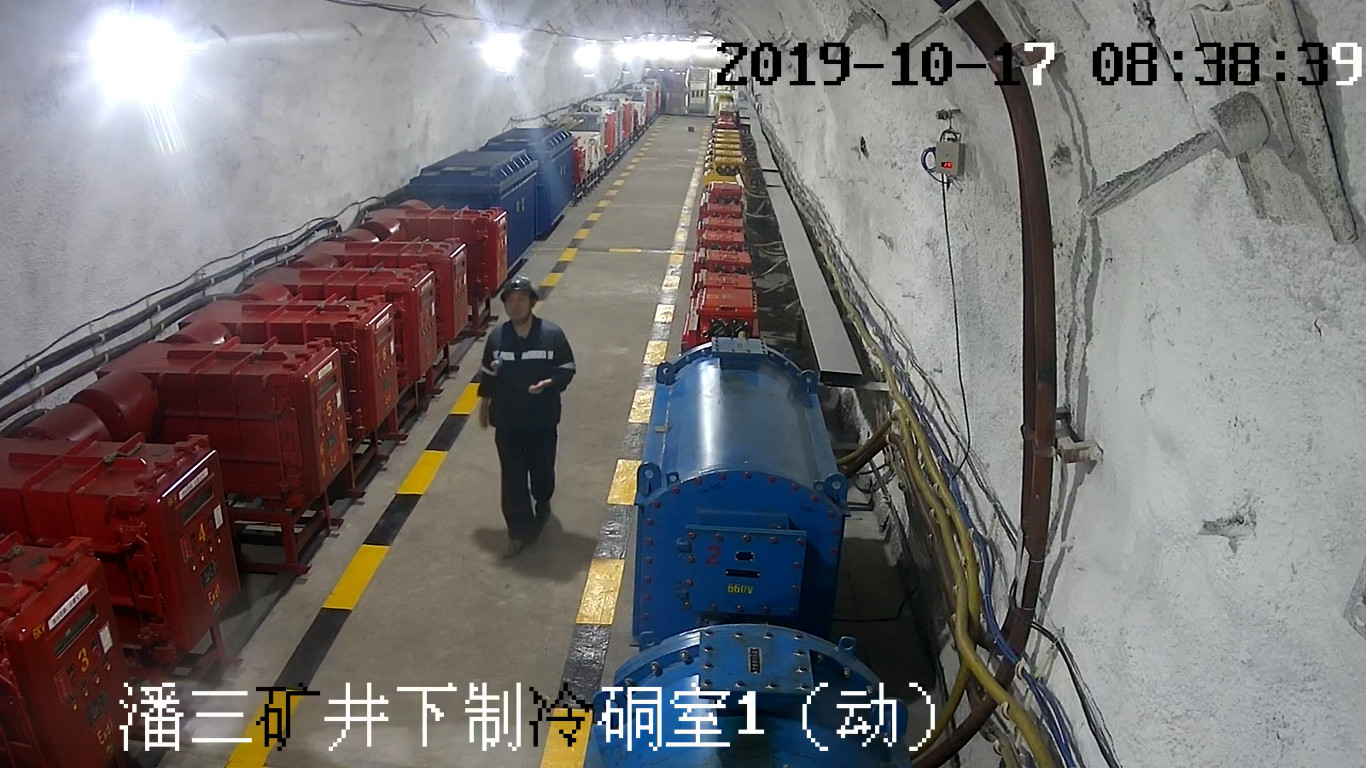helmet: (500, 274, 539, 302)
